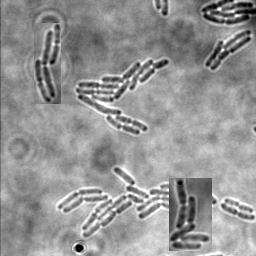Dividing: (219, 204, 255, 222), (223, 199, 253, 215)
Microcolony: (57, 167, 216, 238), (75, 59, 169, 136), (169, 178, 212, 251), (34, 23, 61, 104), (204, 30, 251, 72), (200, 1, 255, 26)
